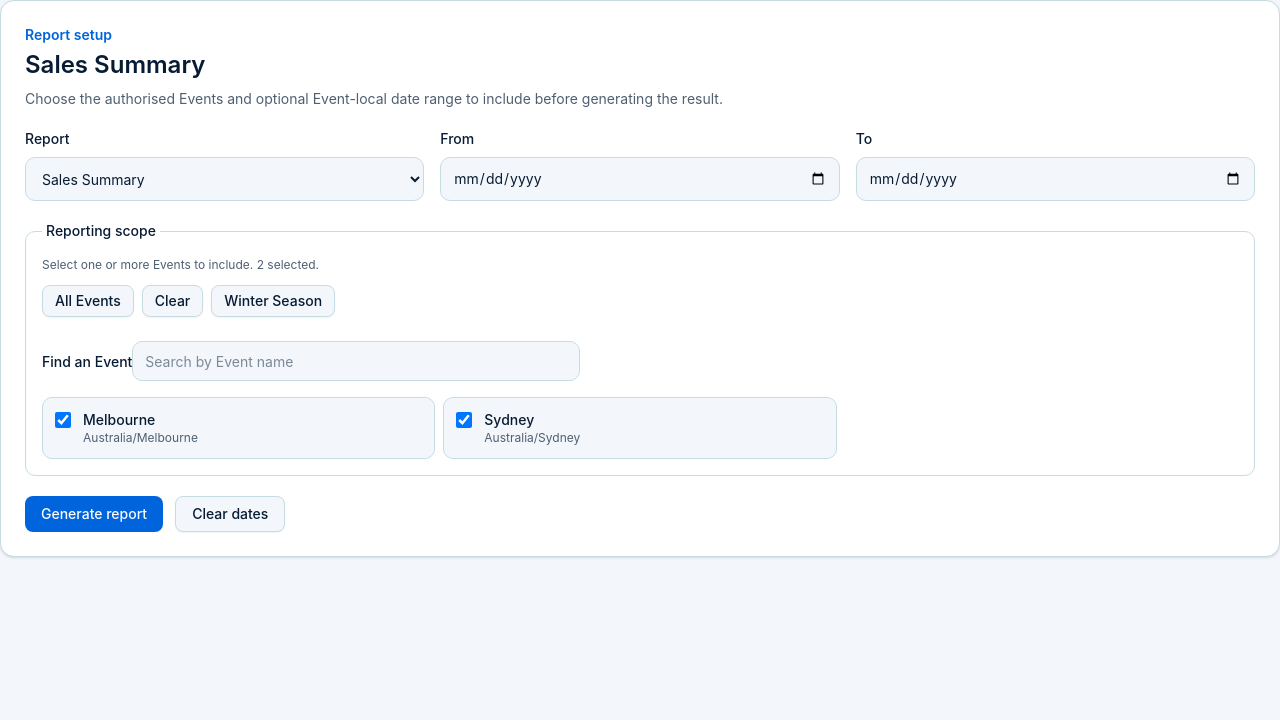
Test: PortfolioReportsWorkspace › uses an Event Group as a quick checklist selection
Click the button "Clear" at (173, 301), box [142,285,203,317]
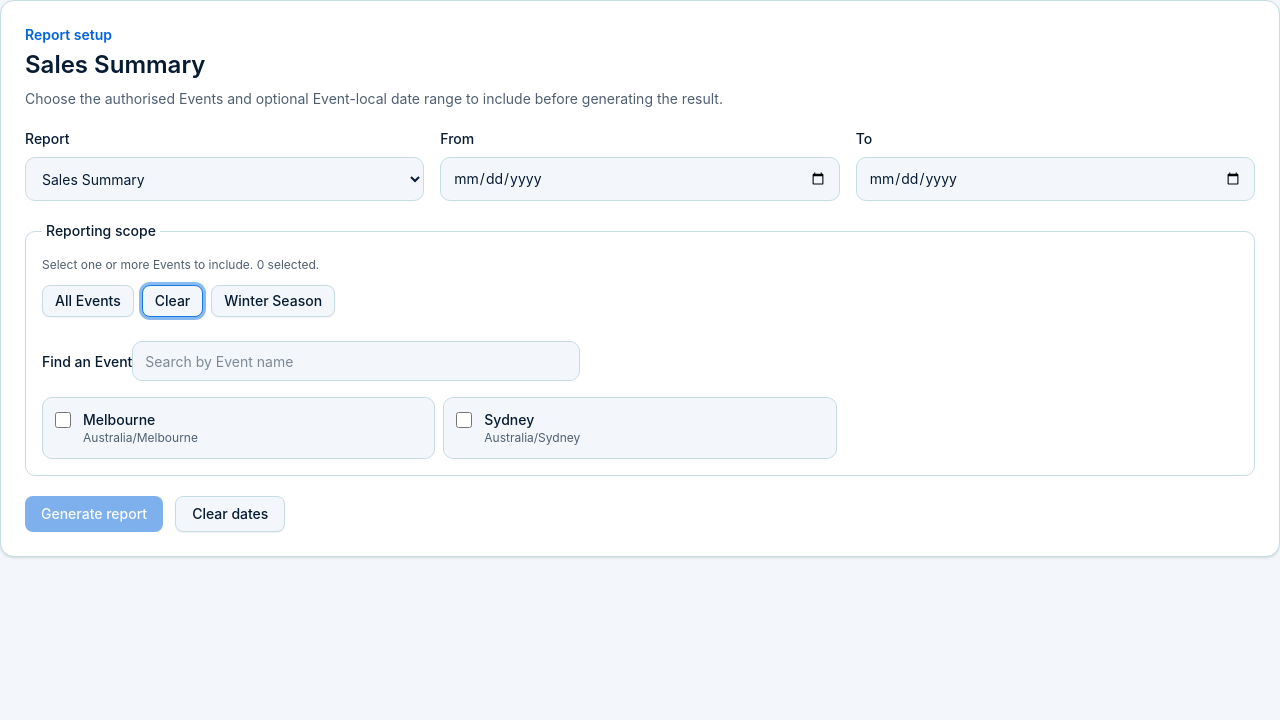
Click the button "Winter Season" at (273, 301), box [211,285,335,317]
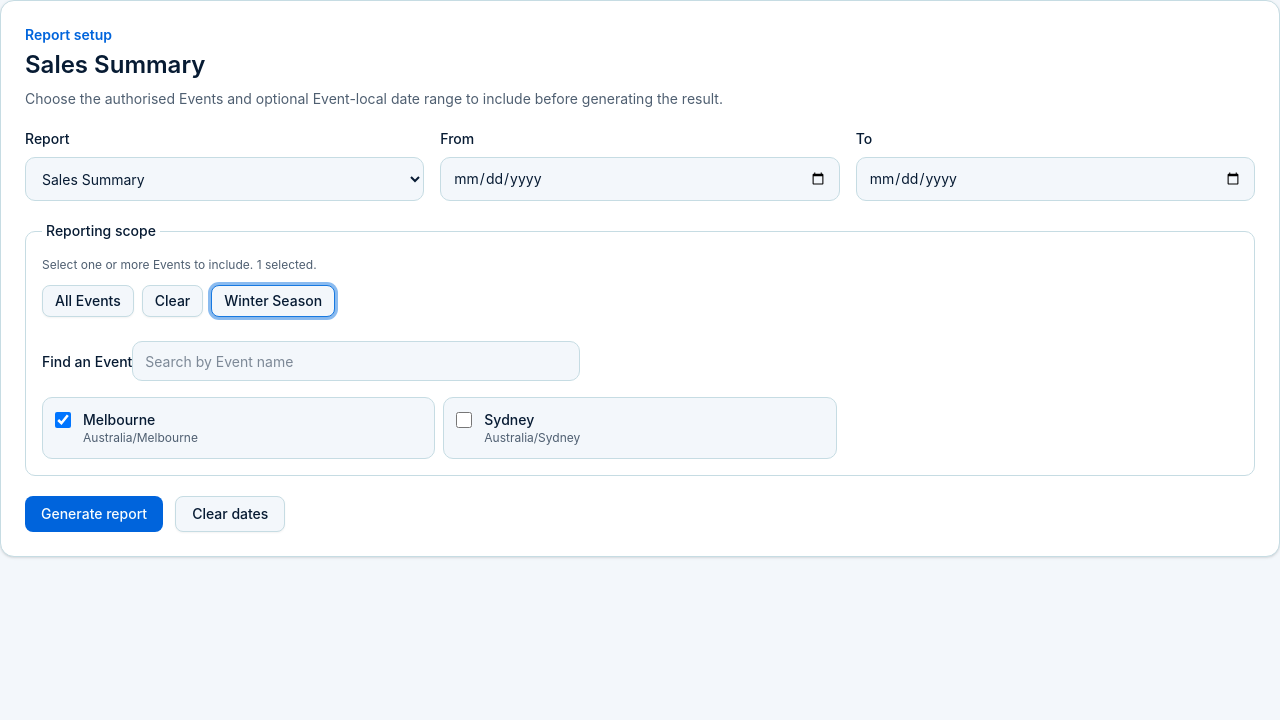
Check: the checkbox labelled "Sydney Australia/Sydney" is not checked, box [456,412,472,428]
Check: the checkbox labelled "Melbourne Australia/Melbourne" is checked, box [55,412,71,428]
